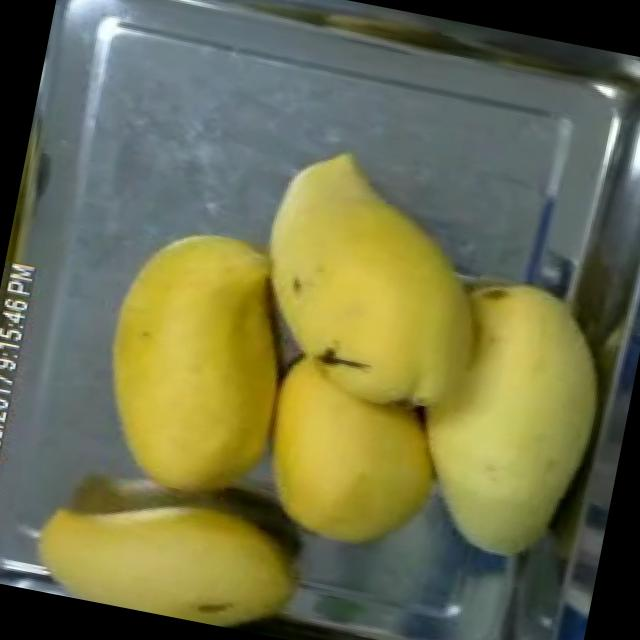fruit: (230, 124, 518, 424), (382, 251, 640, 583), (74, 205, 325, 518), (240, 334, 467, 574), (16, 459, 316, 640)
